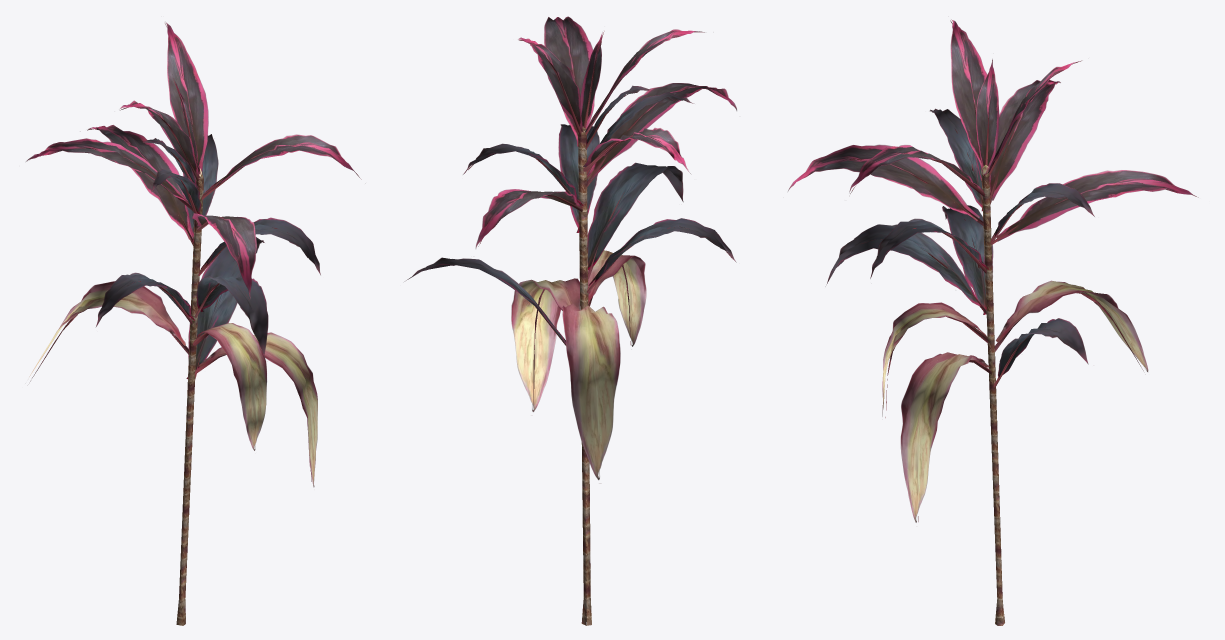
File: Hajuang_red_01_002.glb
3 renders of one model, left to right at view 1: azimuth 30°, elevation 25°; view 2: azimuth 150°, elevation 25°; view 3: azimuth 270°, elevation 25°, orthographic. The views are drawn at different scales.
Visible parts, largest first — view 1: Hajuang_red_01.002; view 2: Hajuang_red_01.002; view 3: Hajuang_red_01.002.
Boxes of the visible parts, <box> form: Hajuang_red_01.002: <box>26,21,361,625</box>; Hajuang_red_01.002: <box>404,16,736,625</box>; Hajuang_red_01.002: <box>788,19,1198,625</box>.
Bounding box in the file's own units: 0.4434 × 0.8817 × 0.5938.
Materials: 5 (5 with a texture image).
